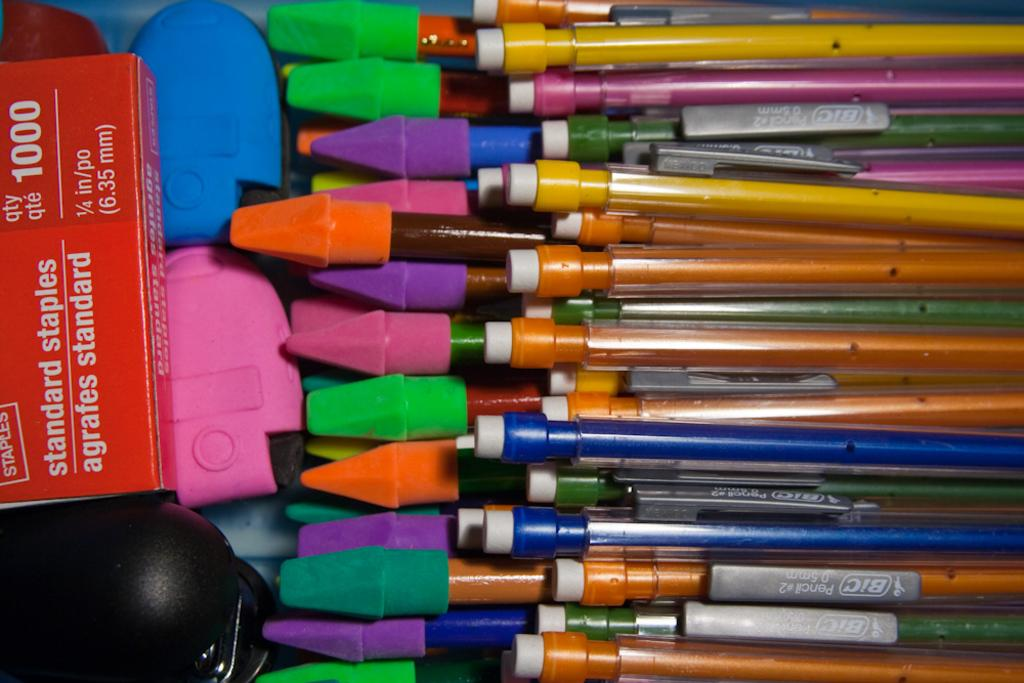pen: (226, 0, 1023, 682)
